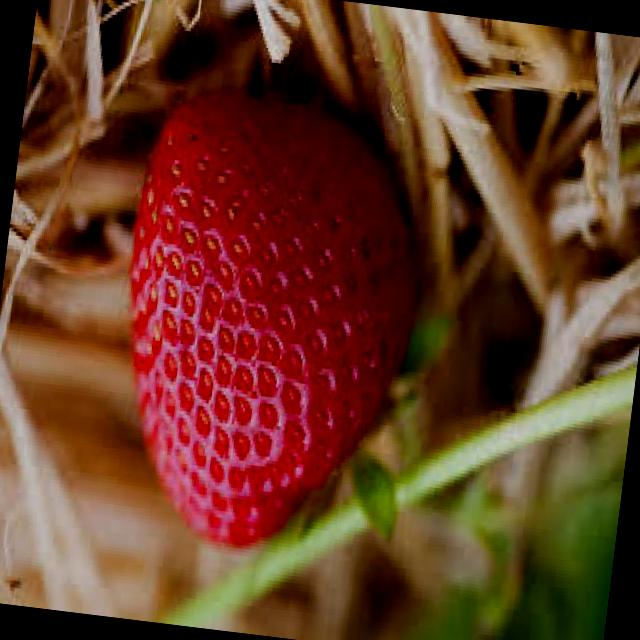Strawberry: (94, 93, 438, 568)
